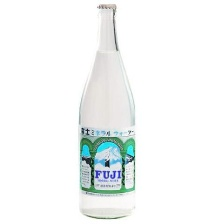bottle: (71, 1, 146, 221)
